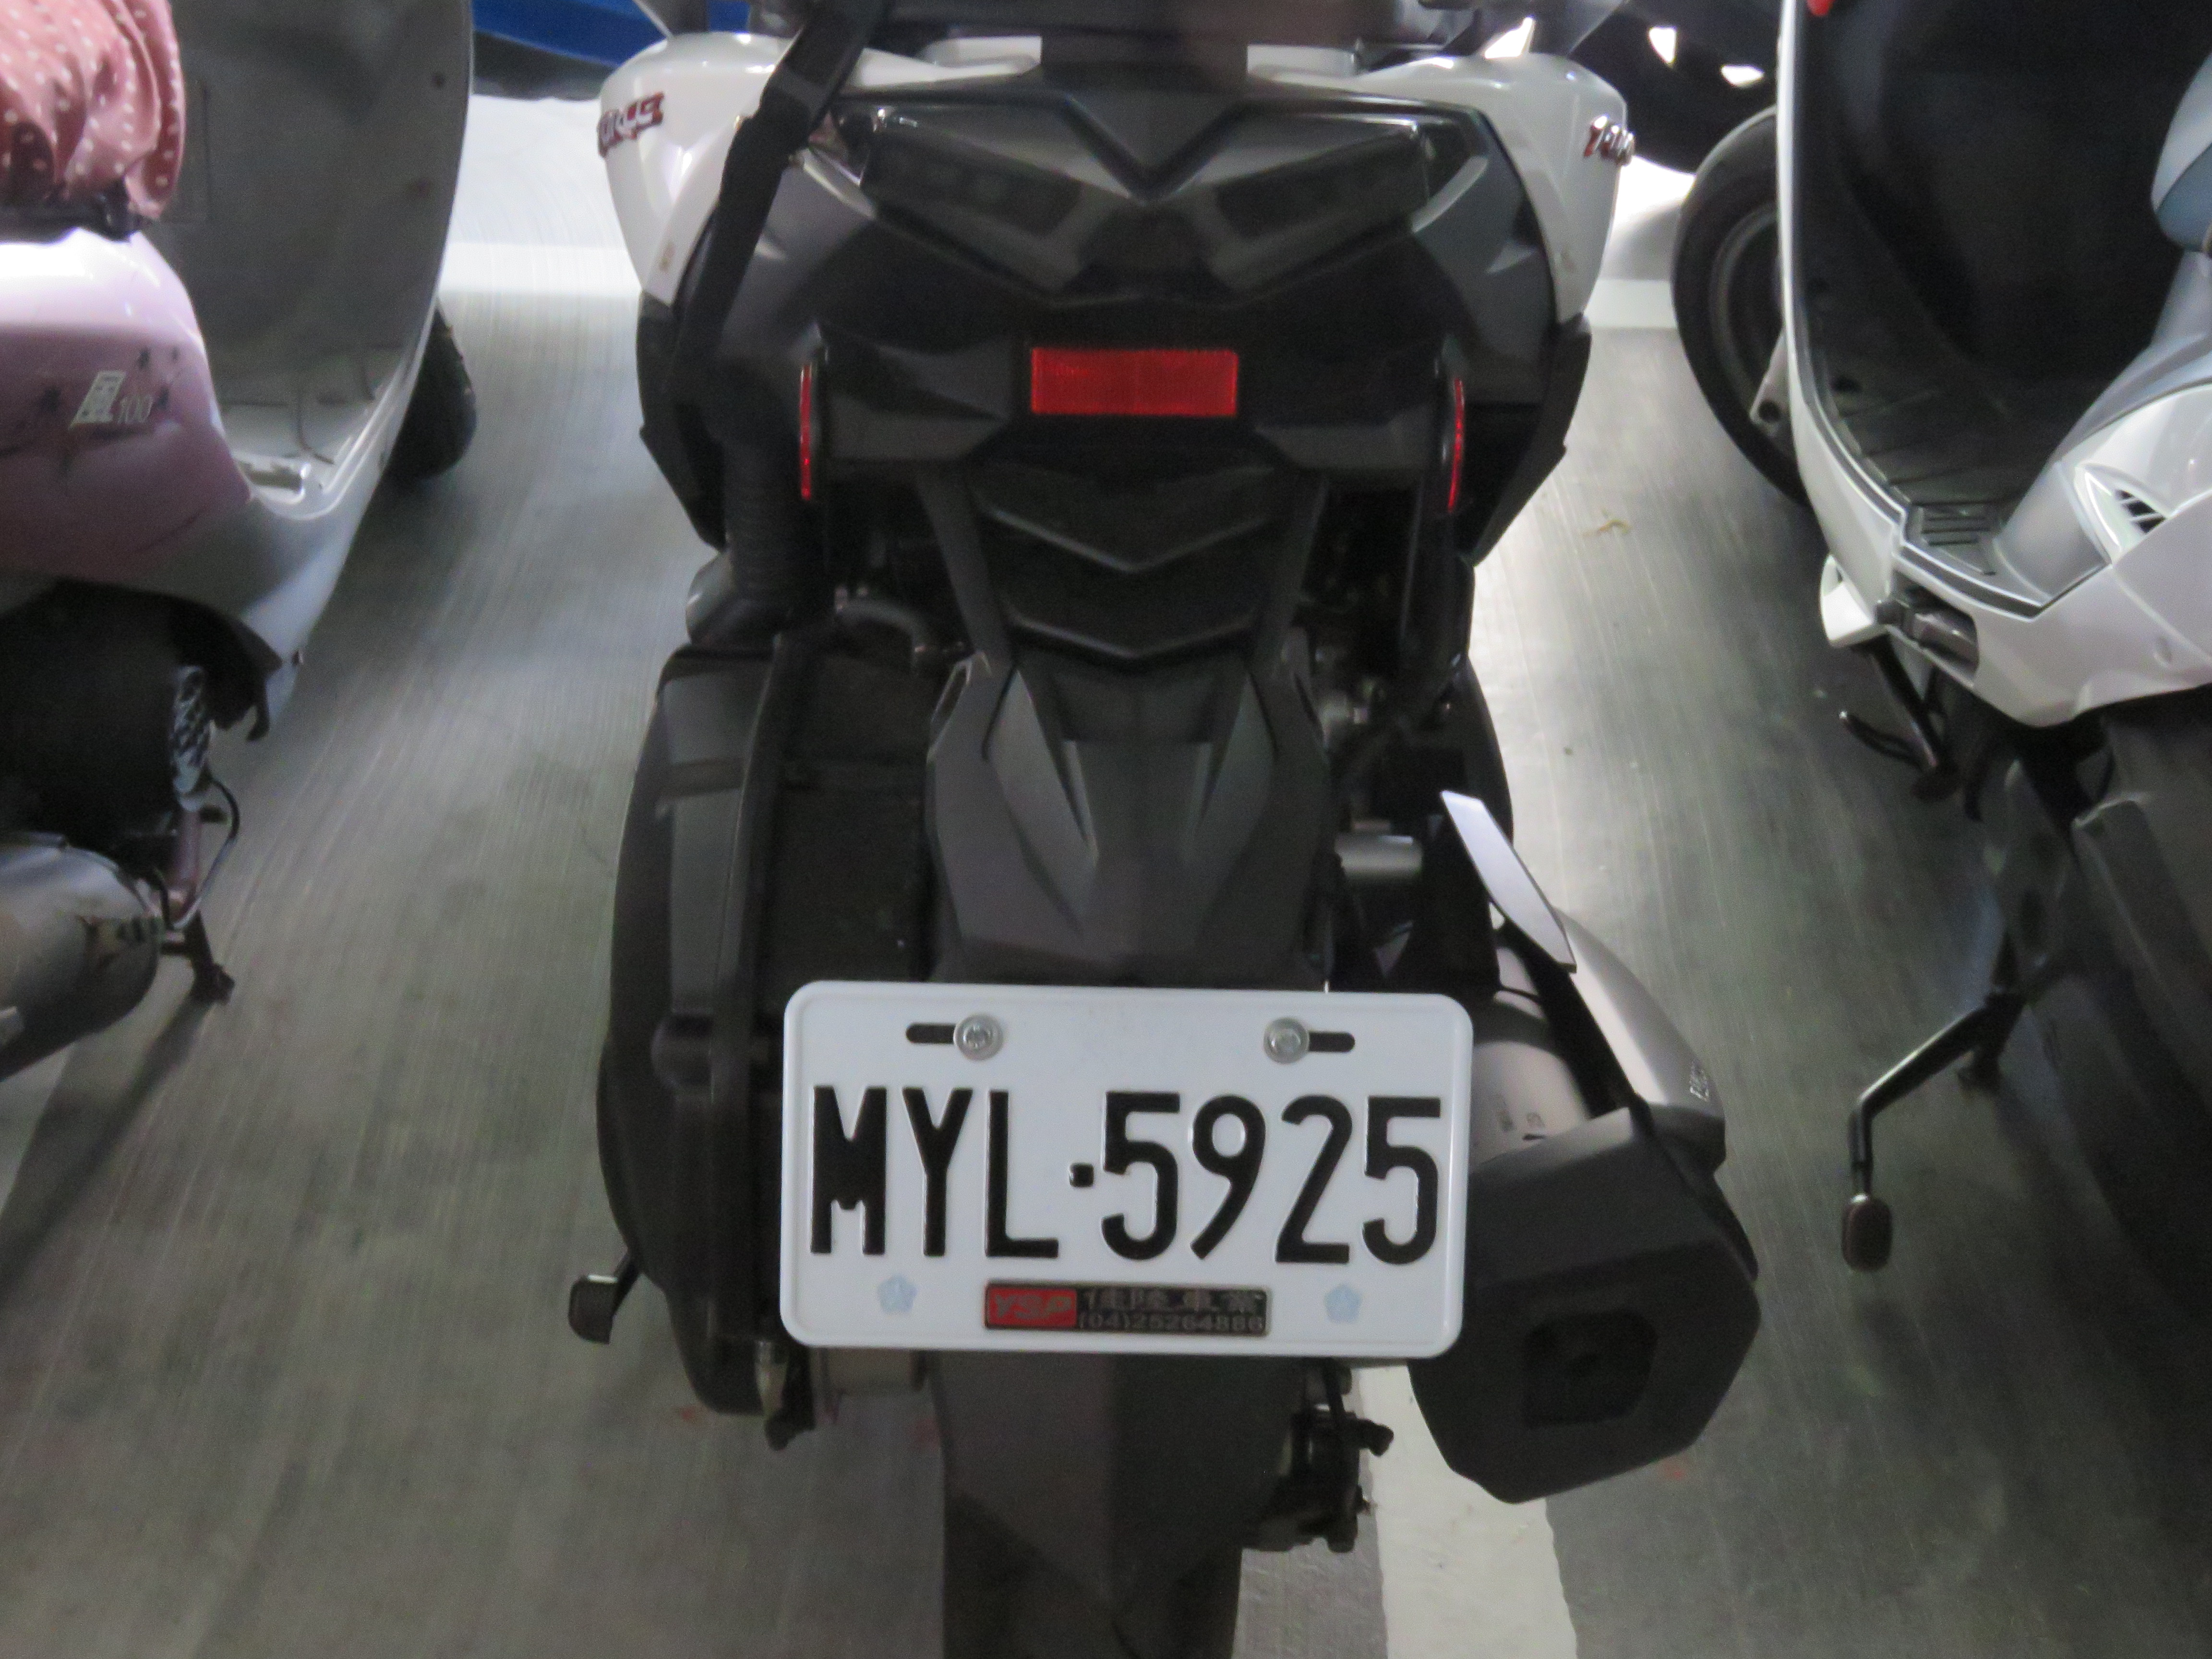car_card: (775, 978, 1467, 1361)
moto: (587, 24, 1683, 1589)
